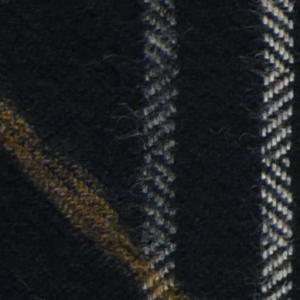Oil Stain: (1, 96, 196, 300)
